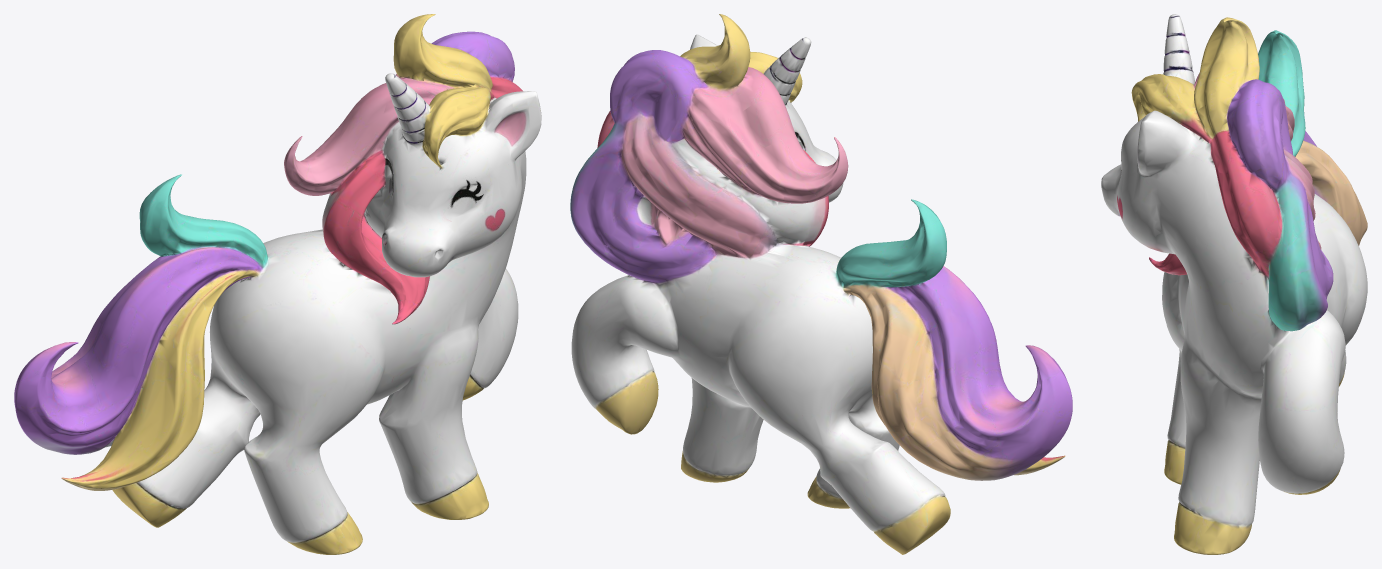
Rendered from rainbow_unicorn.glb.
3 views of the same model, side by side, from view 1: azimuth 30°, elevation 25°; view 2: azimuth 150°, elevation 25°; view 3: azimuth 270°, elevation 25° (orthographic). The views are drawn at different scales.
Bounding box in the file's own units: 1.9 × 1.72 × 0.8104.
Materials: 1 (1 with a texture image).
